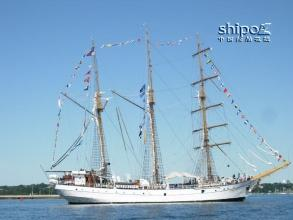fanchuan: (43, 36, 290, 206)
